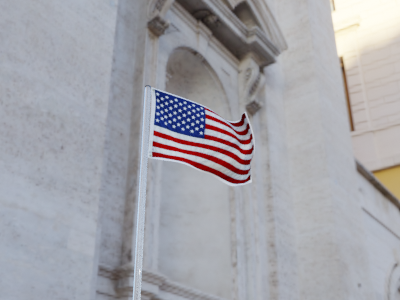America flag: (154, 89, 254, 186)
